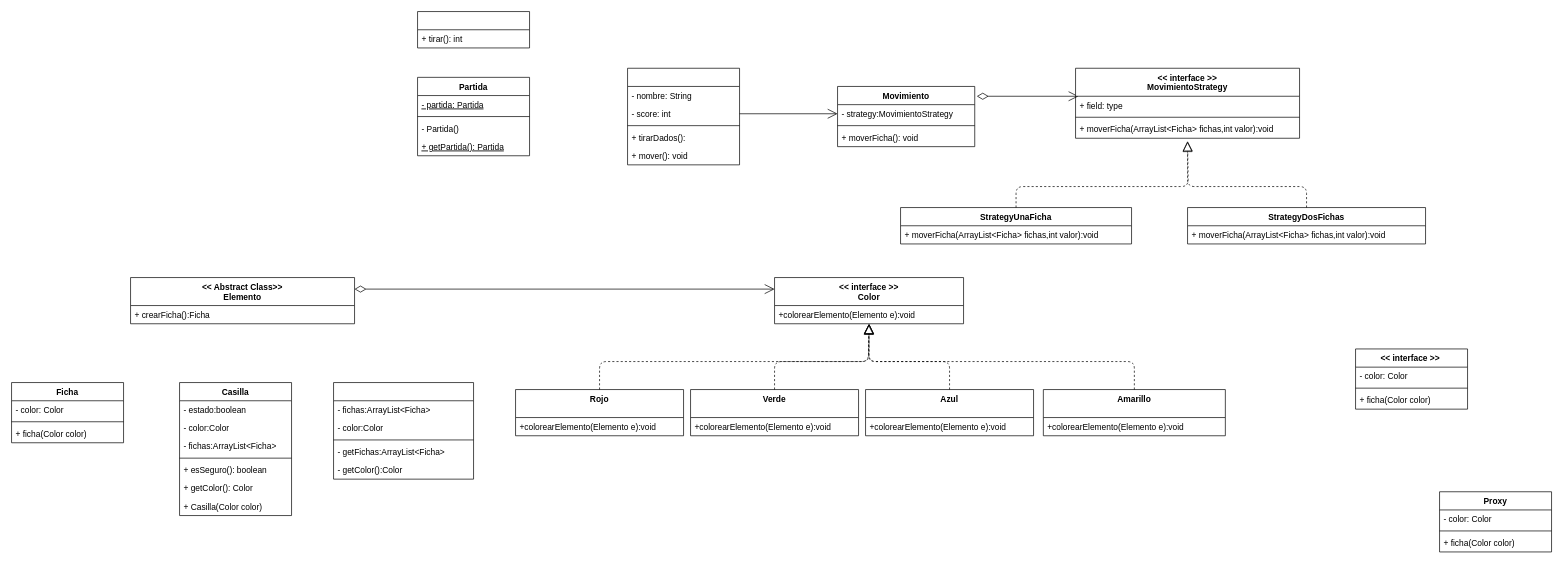
Image size: 1563x564. Some labels were removed from this diagram. Each missing label, with the box of its shape:
Carcel: (333, 382, 474, 479)
Dado: (417, 11, 530, 48)
Jugador: (627, 68, 740, 165)
